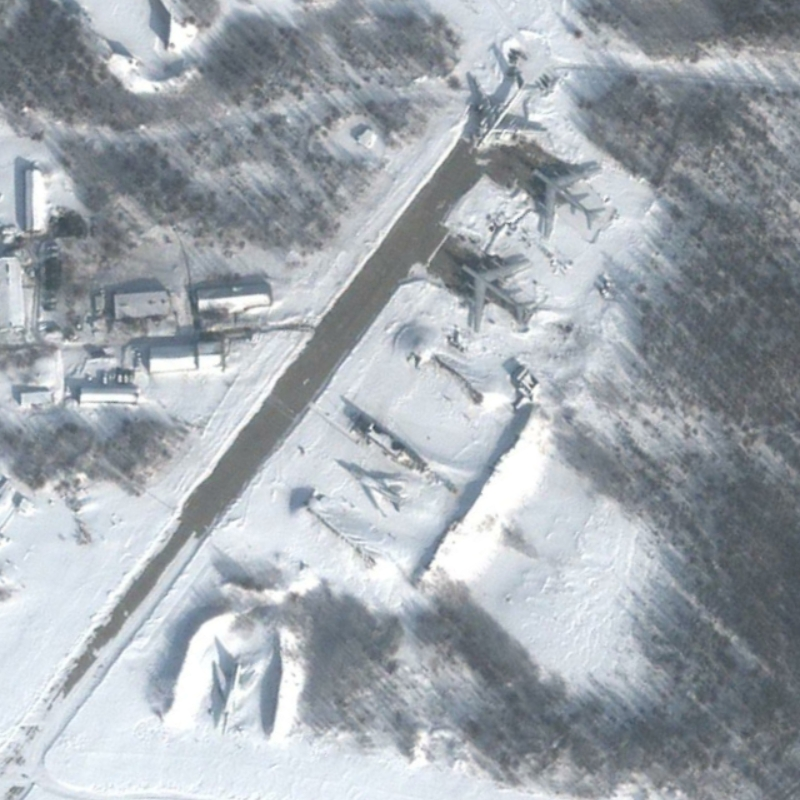A12: (330, 458, 414, 521), (206, 656, 263, 736)
A17: (467, 68, 550, 154), (455, 256, 539, 334), (527, 163, 604, 242)
